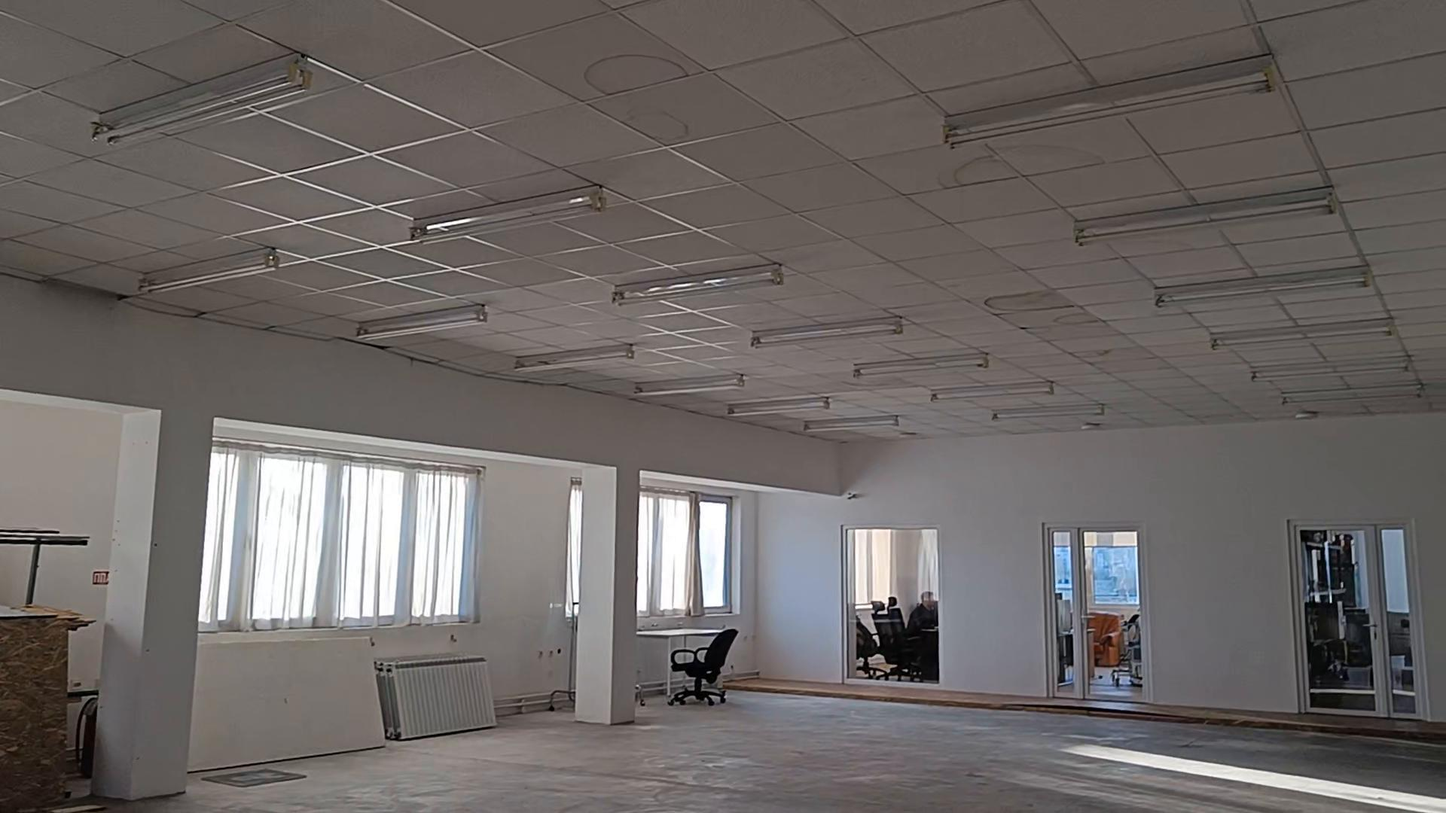ceiling: (0, 0, 1445, 435)
floor: (99, 690, 1445, 812), (728, 678, 1440, 738)
wall: (6, 281, 840, 795), (763, 418, 1441, 724), (385, 468, 565, 699), (3, 401, 120, 689)
